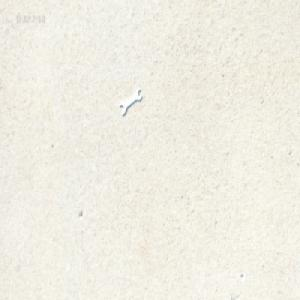Wrench: (119, 86, 141, 115)
